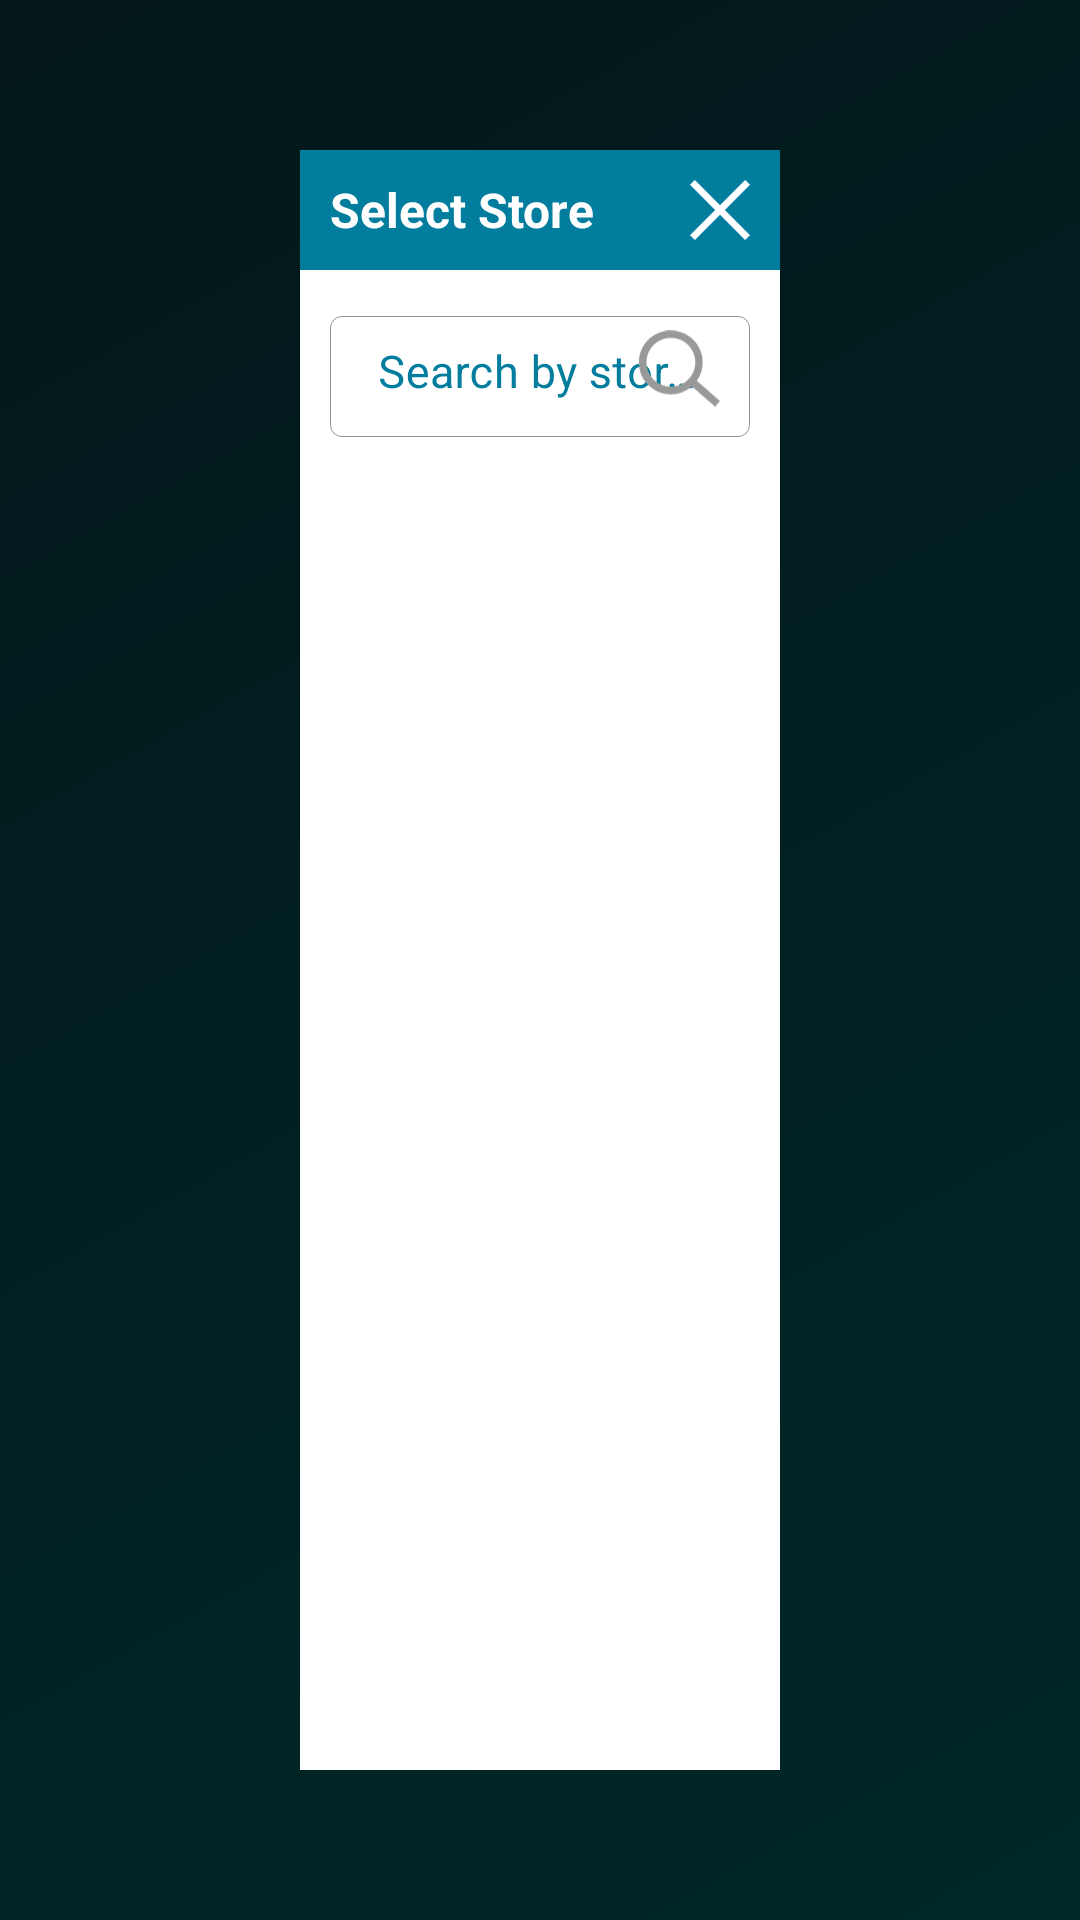

Point at icon controls on the screen. Image size 1080×1920, points as point (x, y).
close view: point (720, 210)
